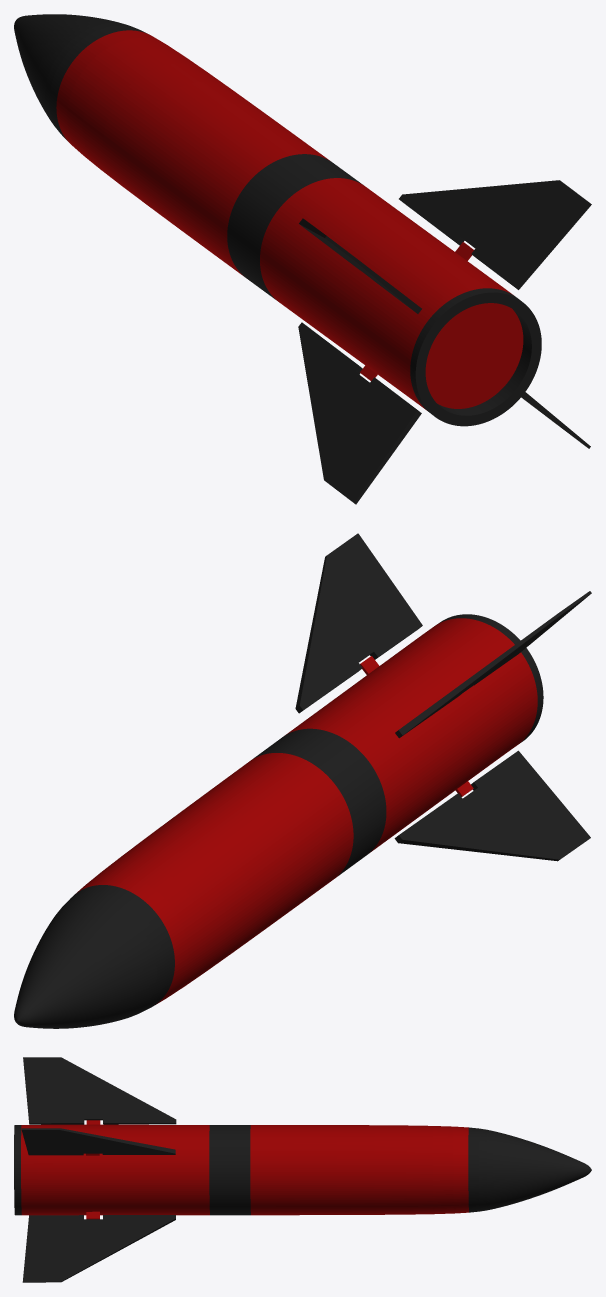
3 views of the same model, one above another, from view 1: azimuth 30°, elevation 25°; view 2: azimuth 150°, elevation 25°; view 3: azimuth 270°, elevation 25° (orthographic). The views are drawn at different scales.
Parts seen in each view (by area): view 1: Missile; view 2: Missile; view 3: Missile.
Part boxes in pixels (bbox=[...]): Missile: bbox=[14, 14, 591, 504]; Missile: bbox=[14, 533, 591, 1028]; Missile: bbox=[14, 1057, 591, 1282].
Size of the model in its own units: 88.3 by 88.27 by 299.
